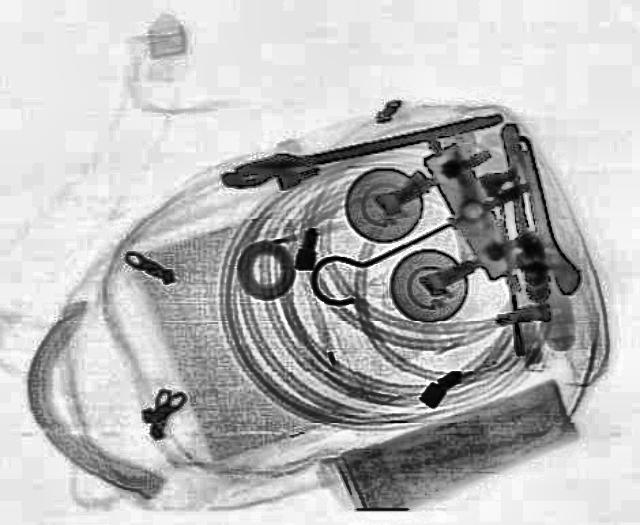Wrench: (213, 104, 505, 190), (486, 130, 586, 302)
